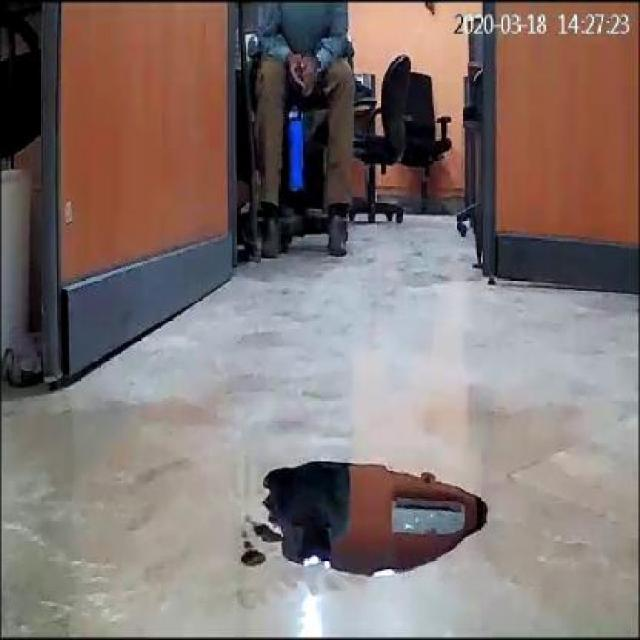spill: (263, 458, 491, 577)
